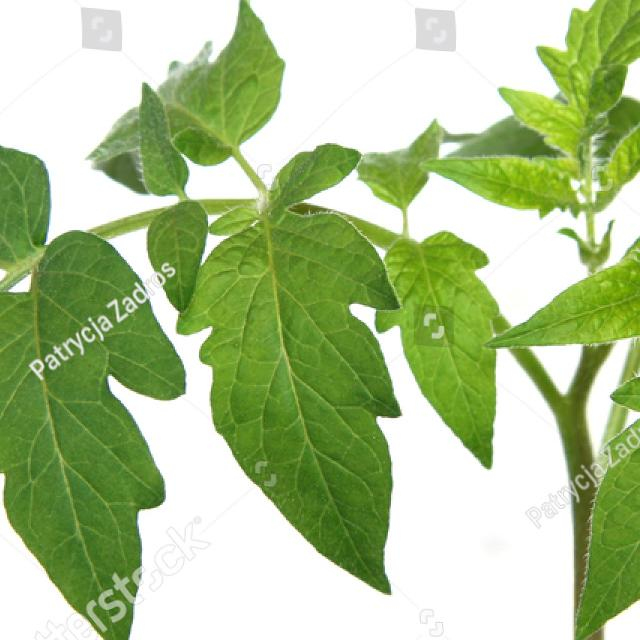Tomato leaf: (201, 152, 444, 639), (0, 232, 273, 640), (500, 0, 640, 259), (575, 327, 640, 634)
